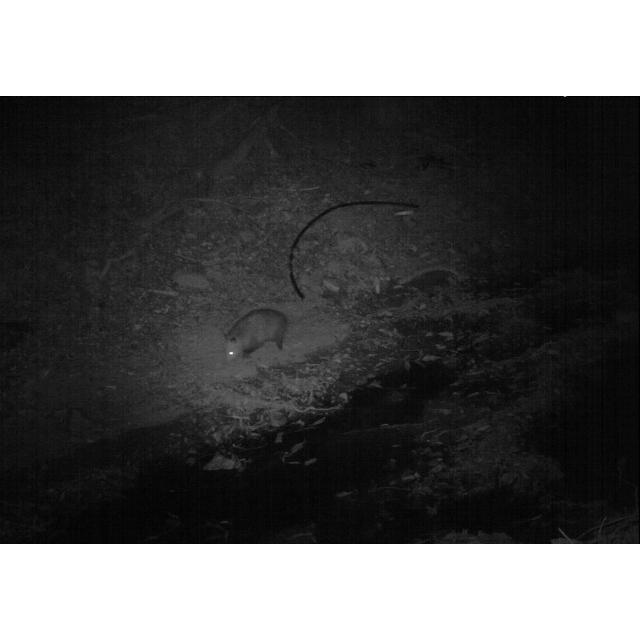animals: (220, 306, 320, 366)
